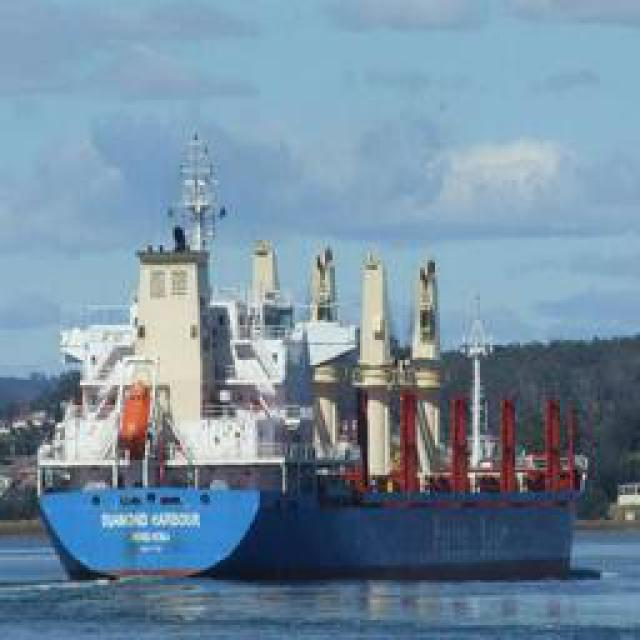Ship: (35, 122, 590, 592)
